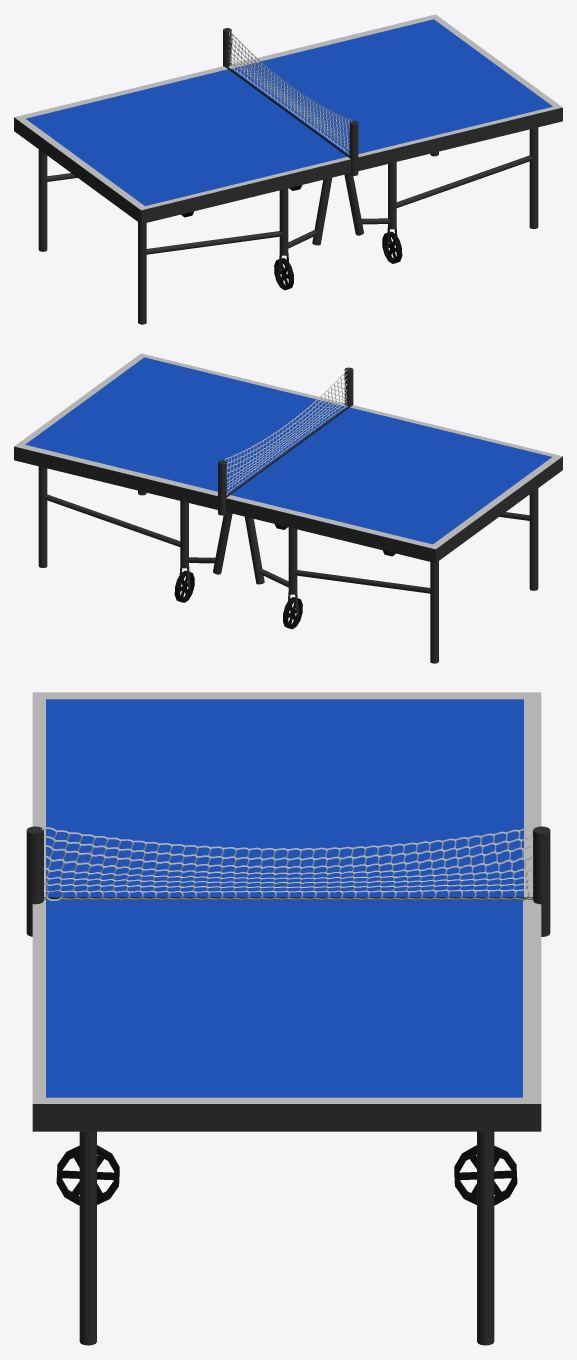
Rendered from Pingpong_tennis.fbx.
3 views of the same model, one above another, from view 1: azimuth 30°, elevation 25°; view 2: azimuth 150°, elevation 25°; view 3: azimuth 270°, elevation 25° (orthographic). The views are drawn at different scales.
Parts seen in each view (by area): view 1: Box054; view 2: Box054; view 3: Box054.
Part boxes in pixels (box(x1,y1,x2,y2)): Box054: box(14, 14, 562, 324); Box054: box(14, 353, 562, 663); Box054: box(26, 692, 550, 1345).
Size of the model in its own units: 315 by 116 by 169.
